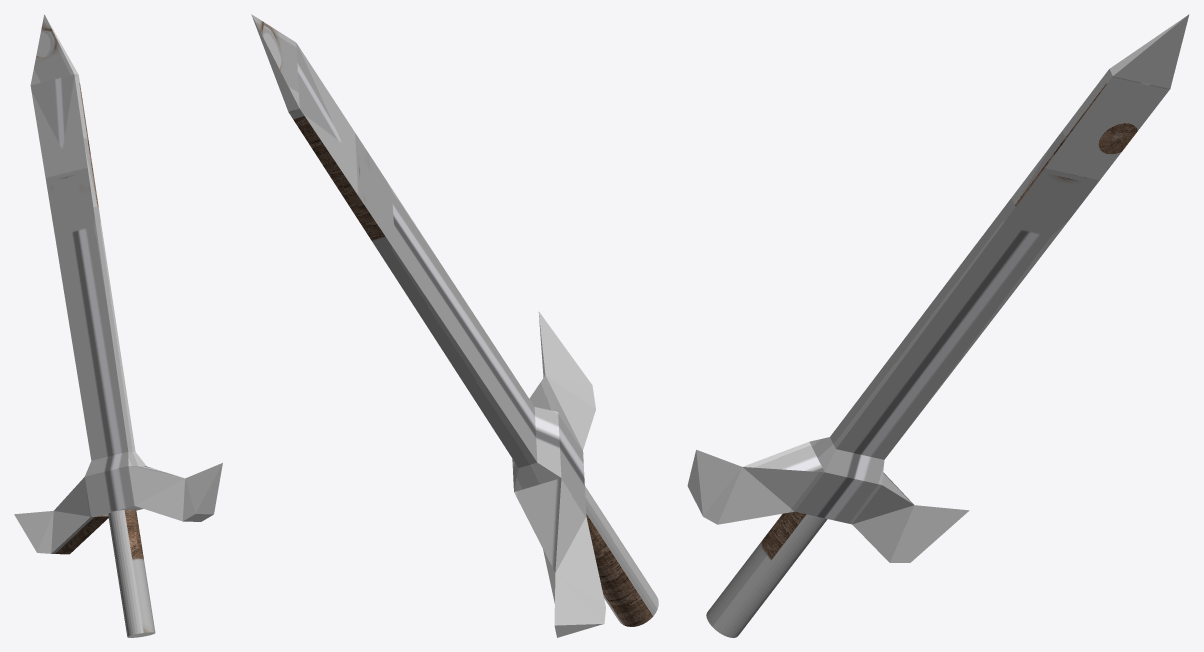
The model's file is Protagonista116.obj.
3 renders of one model, left to right at view 1: azimuth 30°, elevation 25°; view 2: azimuth 150°, elevation 25°; view 3: azimuth 270°, elevation 25°, orthographic. The views are drawn at different scales.
Parts seen in each view (by area): view 1: Cube; view 2: Cube; view 3: Cube.
Boxes of the visible parts, x1,y1,x2,y2 form: Cube: (14, 14, 222, 637); Cube: (251, 14, 658, 637); Cube: (687, 14, 1189, 637).
Bounding box in the file's own units: 0.3853 × 1.48 × 1.01.
Materials: 1 (1 with a texture image).
